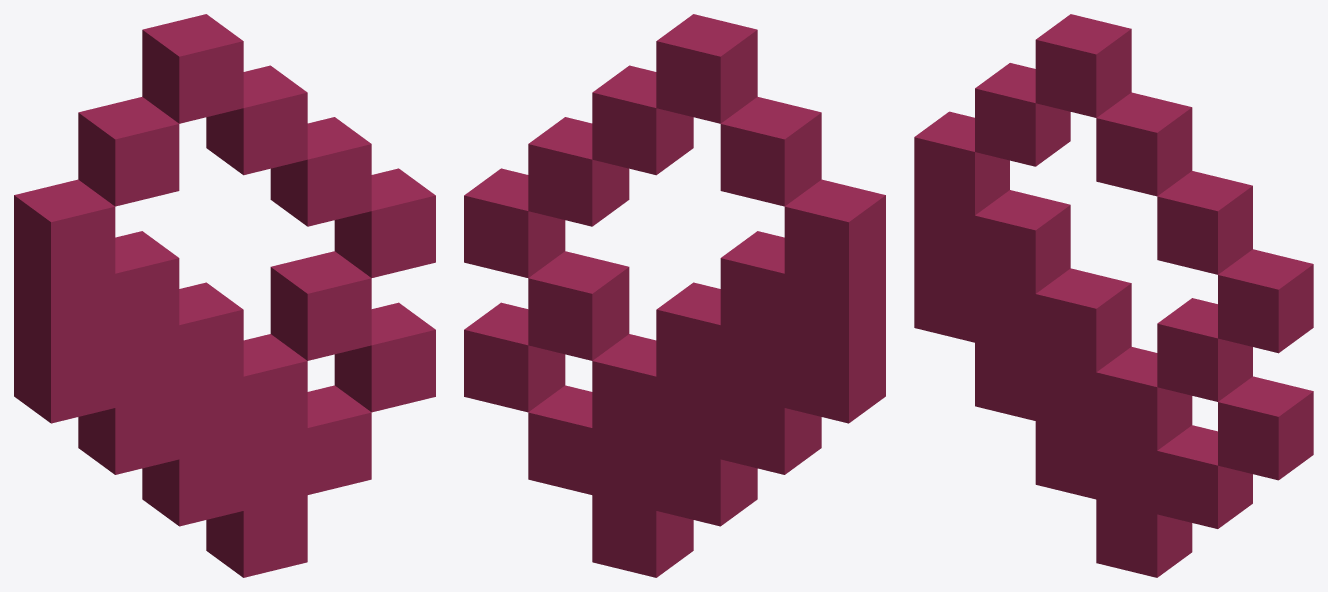
File: Book-War-Purple.vox.obj
3 views of the same model, side by side, from view 1: azimuth 30°, elevation 25°; view 2: azimuth 150°, elevation 25°; view 3: azimuth 330°, elevation 25° (orthographic). The views are drawn at different scales.
Bounding box in the file's own units: 0.6 × 0.8 × 0.1.
1 material, 1 textured.
